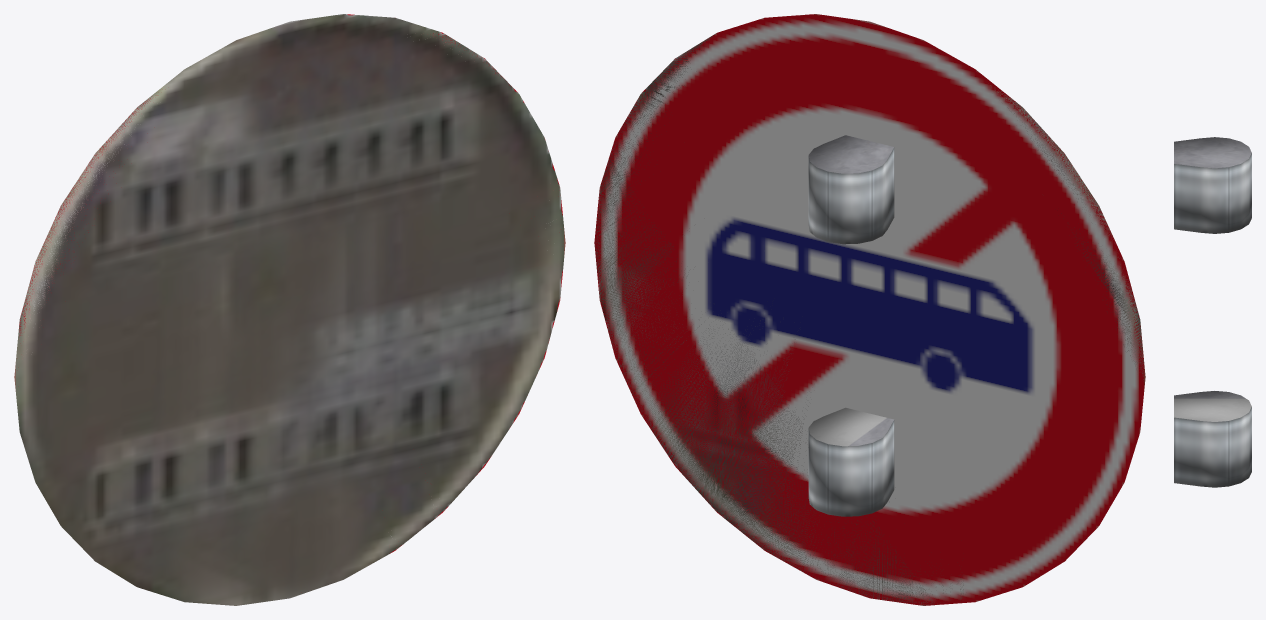
Rendered from Parts_Plate_Circle600.fbx.
3 renders of one model, left to right at view 1: azimuth 30°, elevation 25°; view 2: azimuth 150°, elevation 25°; view 3: azimuth 270°, elevation 25°, orthographic. The views are drawn at different scales.
Parts seen in each view (by area): view 1: 950_plate_circle600; view 2: 950_plate_circle600; view 3: 950_plate_circle600.
Part boxes in pixels (bbox=[...]): 950_plate_circle600: bbox=[14, 14, 565, 605]; 950_plate_circle600: bbox=[594, 14, 1145, 605]; 950_plate_circle600: bbox=[1174, 137, 1251, 487].
Bounding box in the file's own units: 0.6 × 0.6 × 0.0788.
